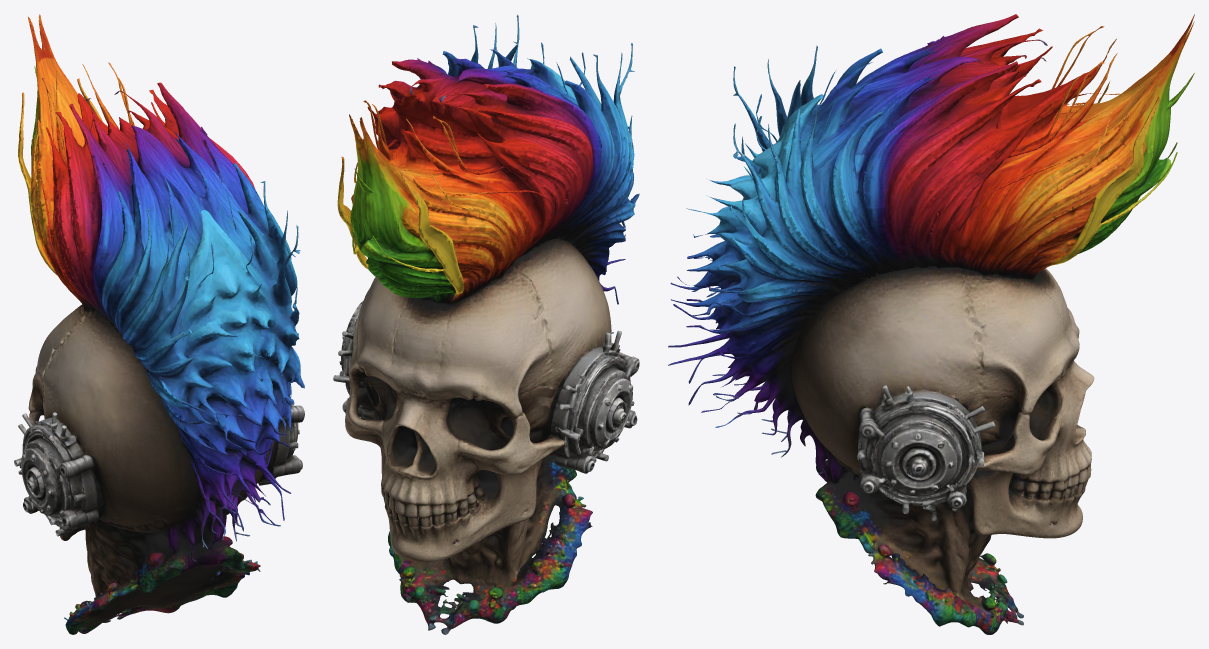
The picture shows the model from 3 angles, left to right: view 1: azimuth 30°, elevation 25°; view 2: azimuth 150°, elevation 25°; view 3: azimuth 270°, elevation 25°; orthographic projection. The views are drawn at different scales.
Parts seen in each view (by area): view 1: tripo_node_a9566233-dc84-4db0-a9ed-81fbfd2090c9; view 2: tripo_node_a9566233-dc84-4db0-a9ed-81fbfd2090c9; view 3: tripo_node_a9566233-dc84-4db0-a9ed-81fbfd2090c9.
Part boxes in pixels (x1,y1,x2,y2): tripo_node_a9566233-dc84-4db0-a9ed-81fbfd2090c9: (14,14,304,634); tripo_node_a9566233-dc84-4db0-a9ed-81fbfd2090c9: (333,14,639,634); tripo_node_a9566233-dc84-4db0-a9ed-81fbfd2090c9: (668,14,1194,634).
Bounding box in the file's own units: 0.4739 × 0.9476 × 0.7494.
Materials: 1 (1 with a texture image).
